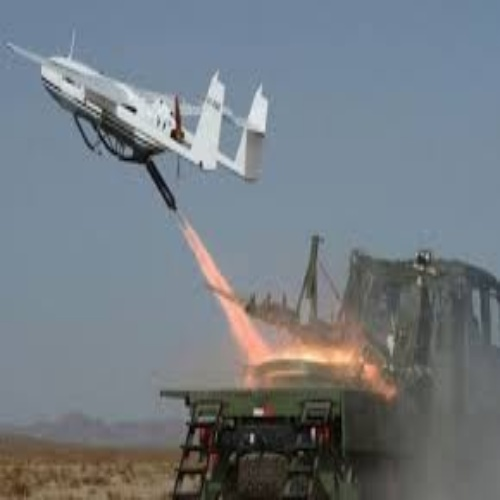uav: (2, 25, 271, 196)
